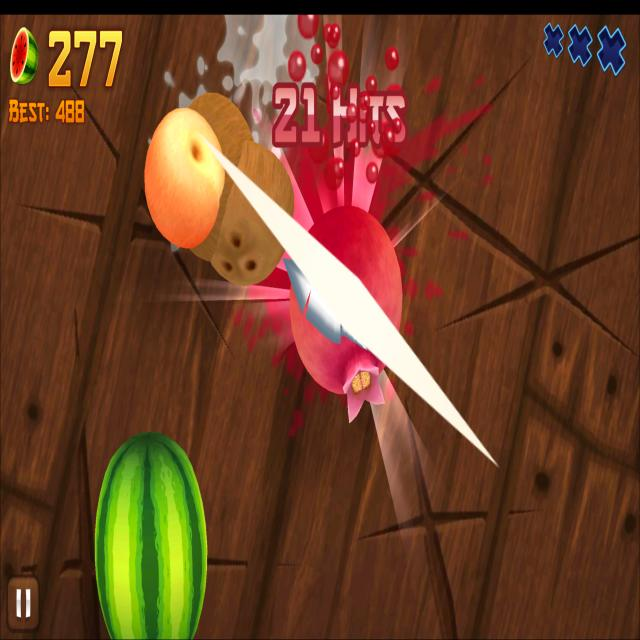fruit: (87, 430, 218, 638), (281, 200, 410, 409), (139, 103, 229, 253), (208, 140, 299, 287)
